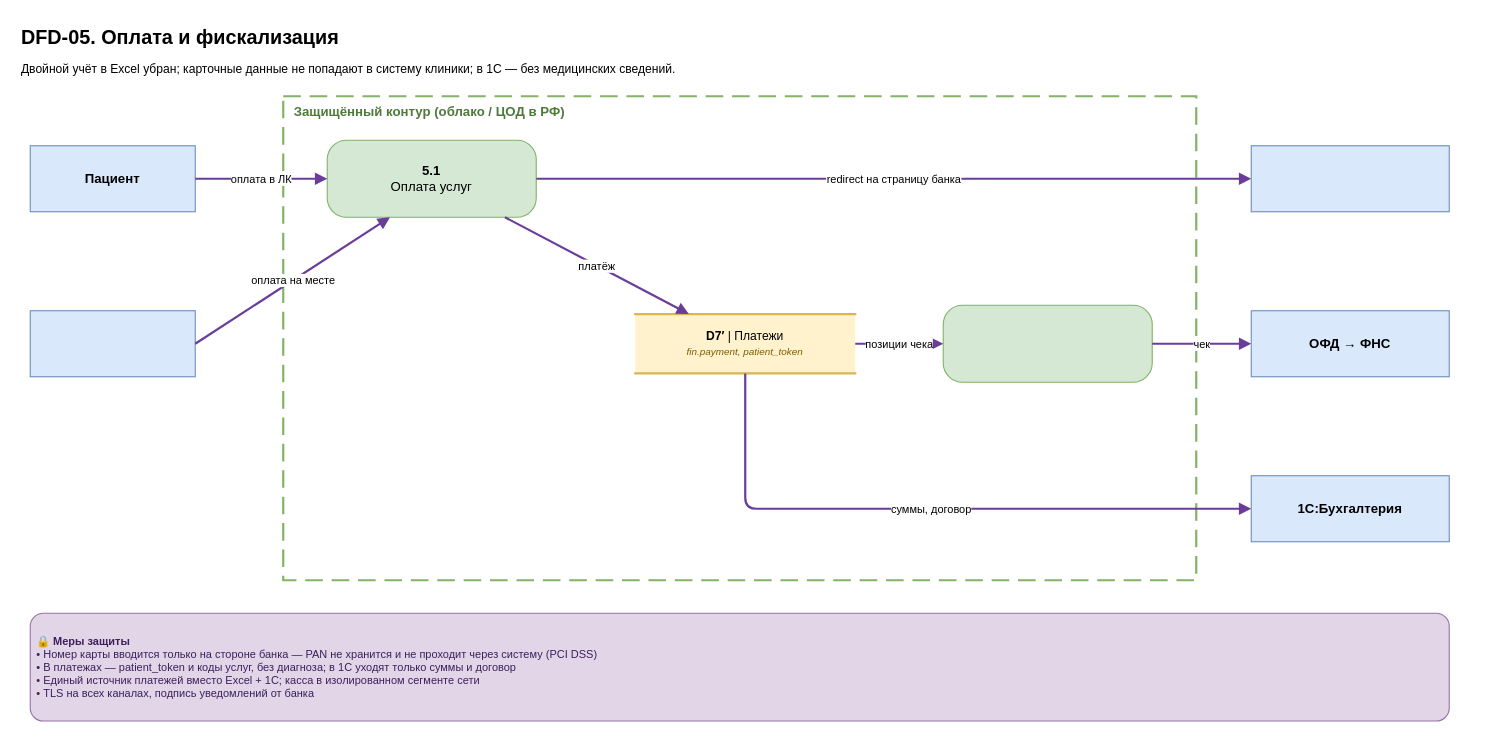
Image size: 1489x740. Some labels were removed from this diagram. The shapes that lost their labels are listed below. From the top down, each one's centre as x and y in pixels, then its label:
At pixel 1349 178: "Банк-эквайер / ПСП".
At pixel 112 343: "Кассир".
At pixel 1047 343: "5.2 Фискализация".
